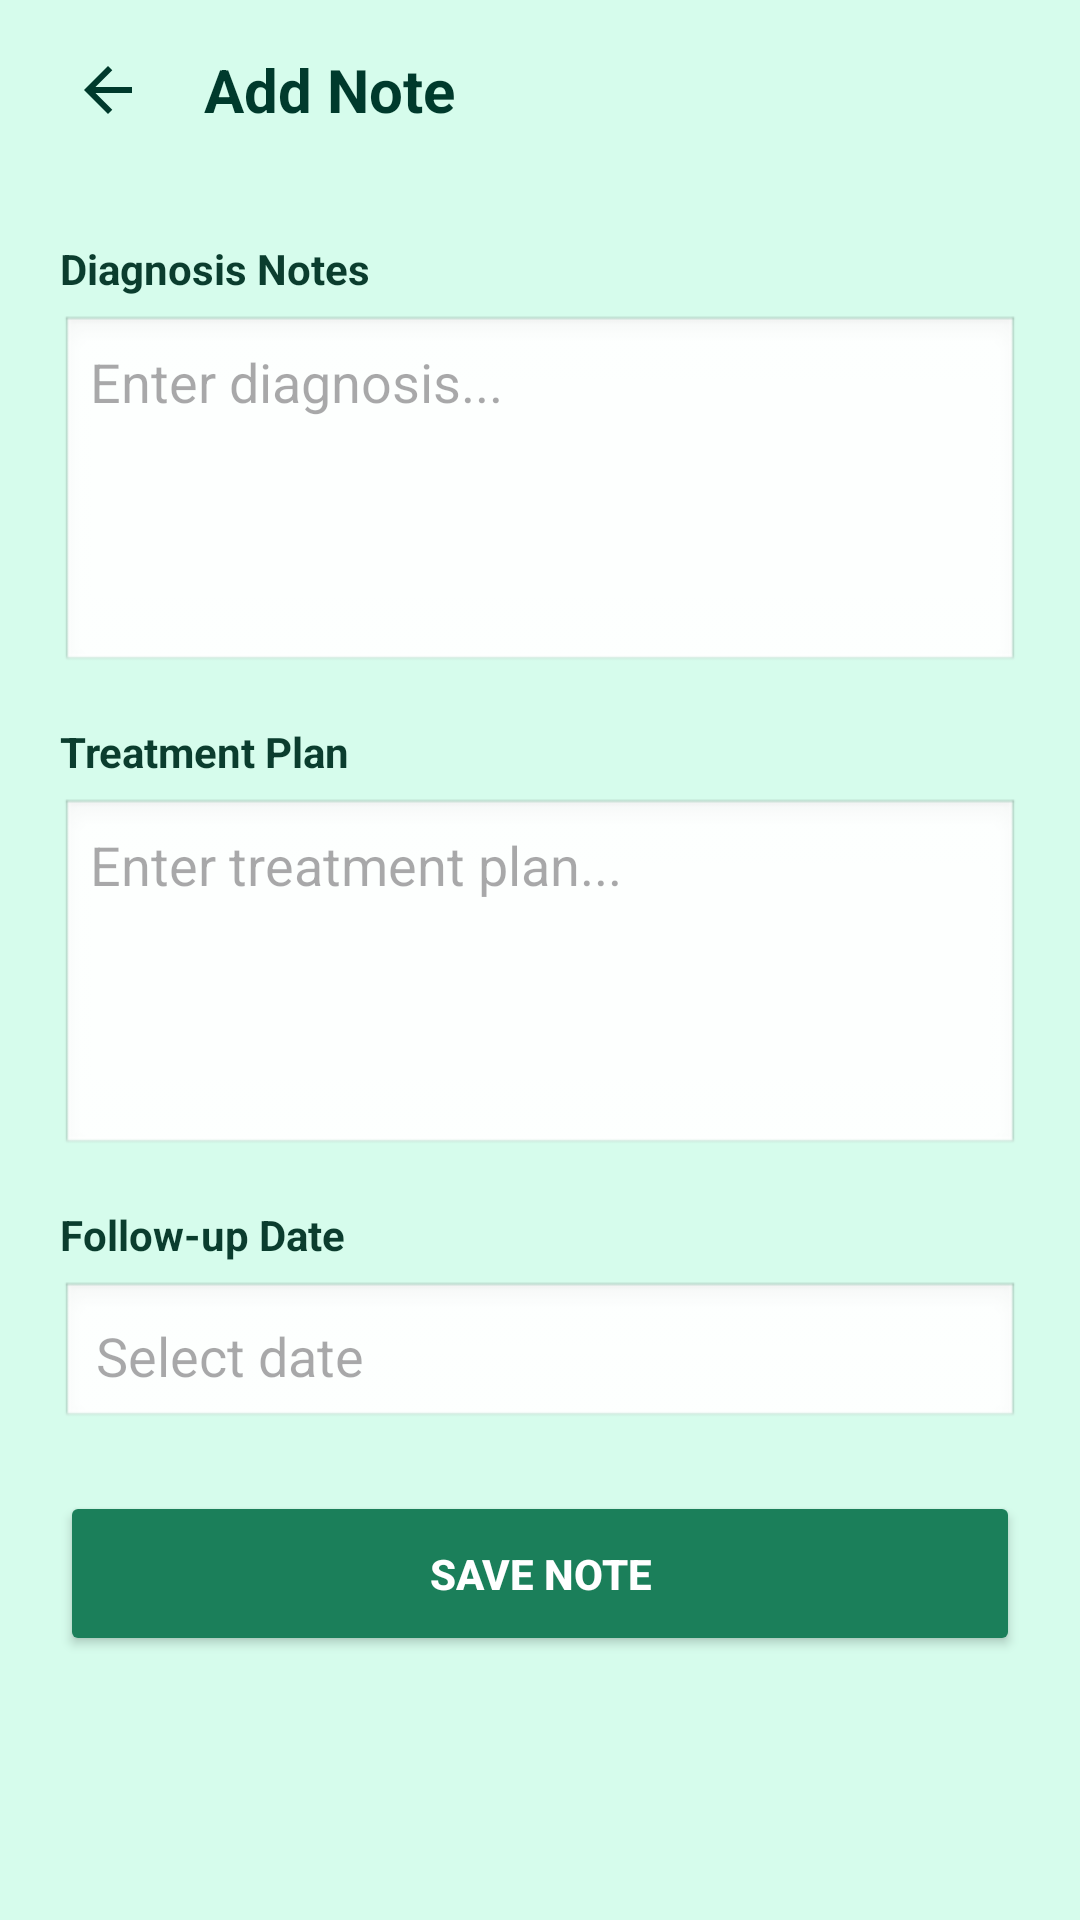

Where to tap for icons on this 1080×1920 app screen, as (x,y):
arrow back: (108,90)
